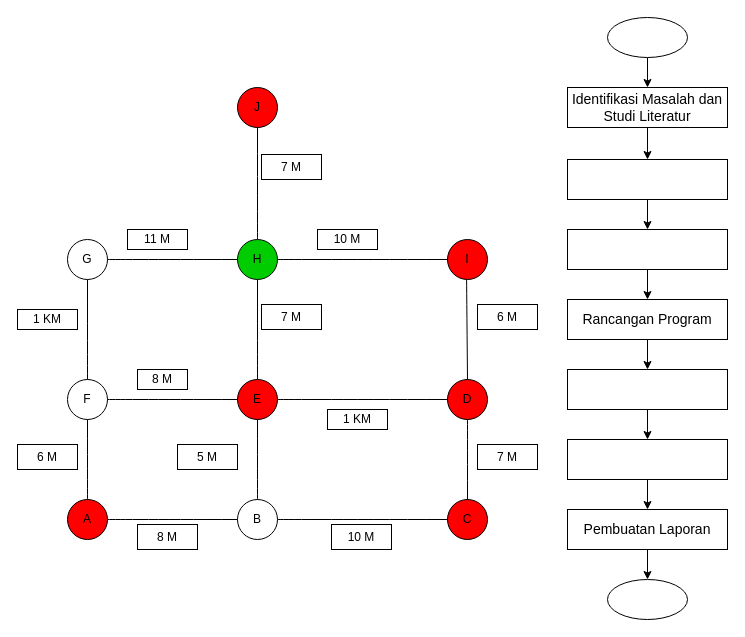
This 745x637 diagram has some shape labels left out. Each missing label, with the box of its shape:
Impelementasi: (566, 368, 728, 410)
Mulai: (606, 16, 688, 58)
Pemodelan Jaringan Jalan/Rute: (566, 228, 728, 270)
Pengujian: (566, 438, 728, 480)
Pengumpulan Data: (566, 158, 728, 200)
Selesai: (606, 578, 688, 620)
